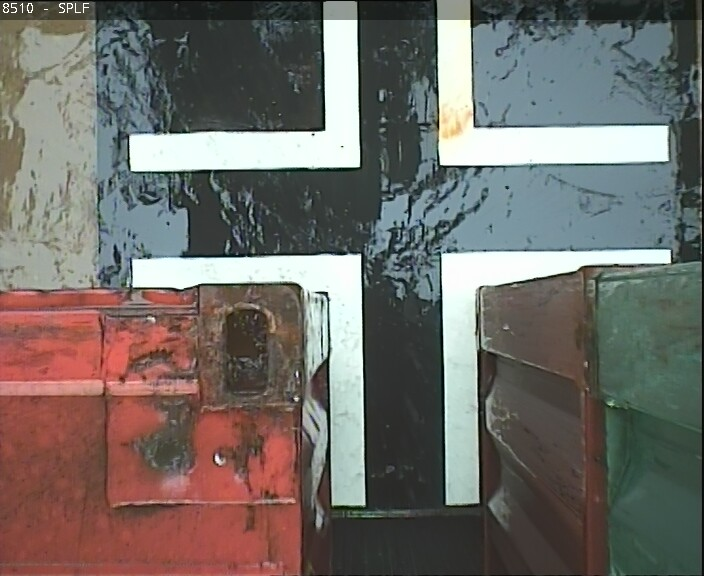groundmarker_1: (133, 247, 667, 508), (128, 1, 664, 171)
